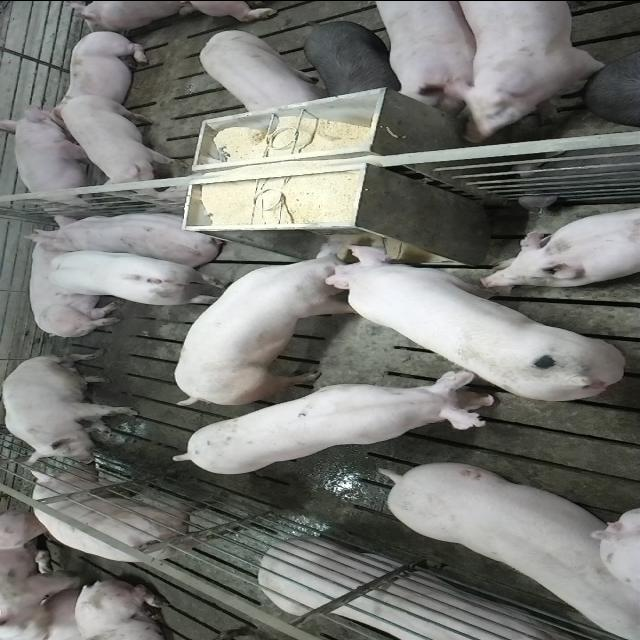Feeding: (322, 242, 628, 410), (170, 225, 378, 399)
Lateral_lying: (18, 225, 120, 336)
Sitting: (1, 352, 141, 466)
Standing: (376, 458, 634, 635), (165, 367, 495, 471), (428, 2, 618, 138), (27, 460, 237, 560), (62, 94, 186, 194), (370, 3, 482, 113), (200, 28, 328, 116), (48, 248, 232, 308), (302, 18, 406, 97), (579, 38, 638, 124)
Sternal_lying: (259, 540, 593, 640), (483, 204, 640, 288), (50, 27, 154, 122)
